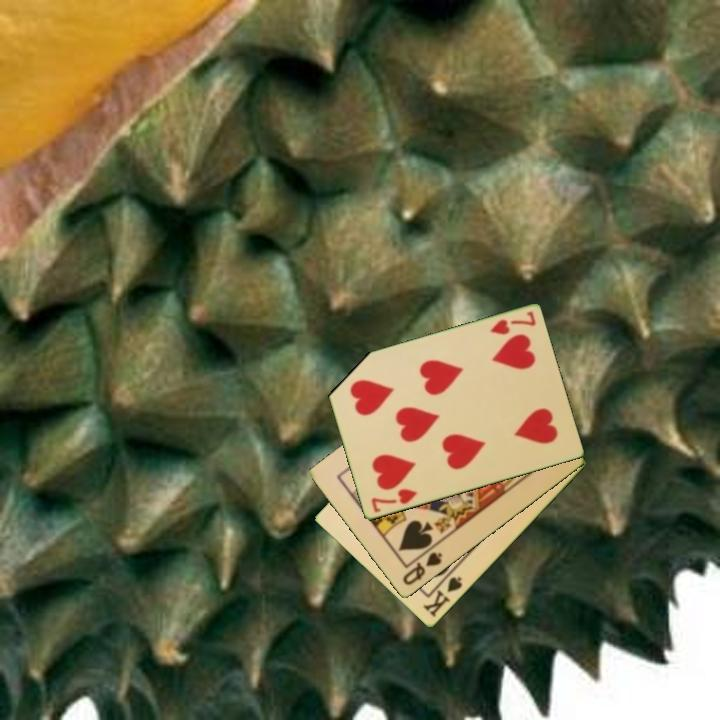7h: (368, 485, 420, 516), (487, 308, 538, 338)
Ks: (419, 573, 465, 620)
Qs: (399, 549, 445, 589)
